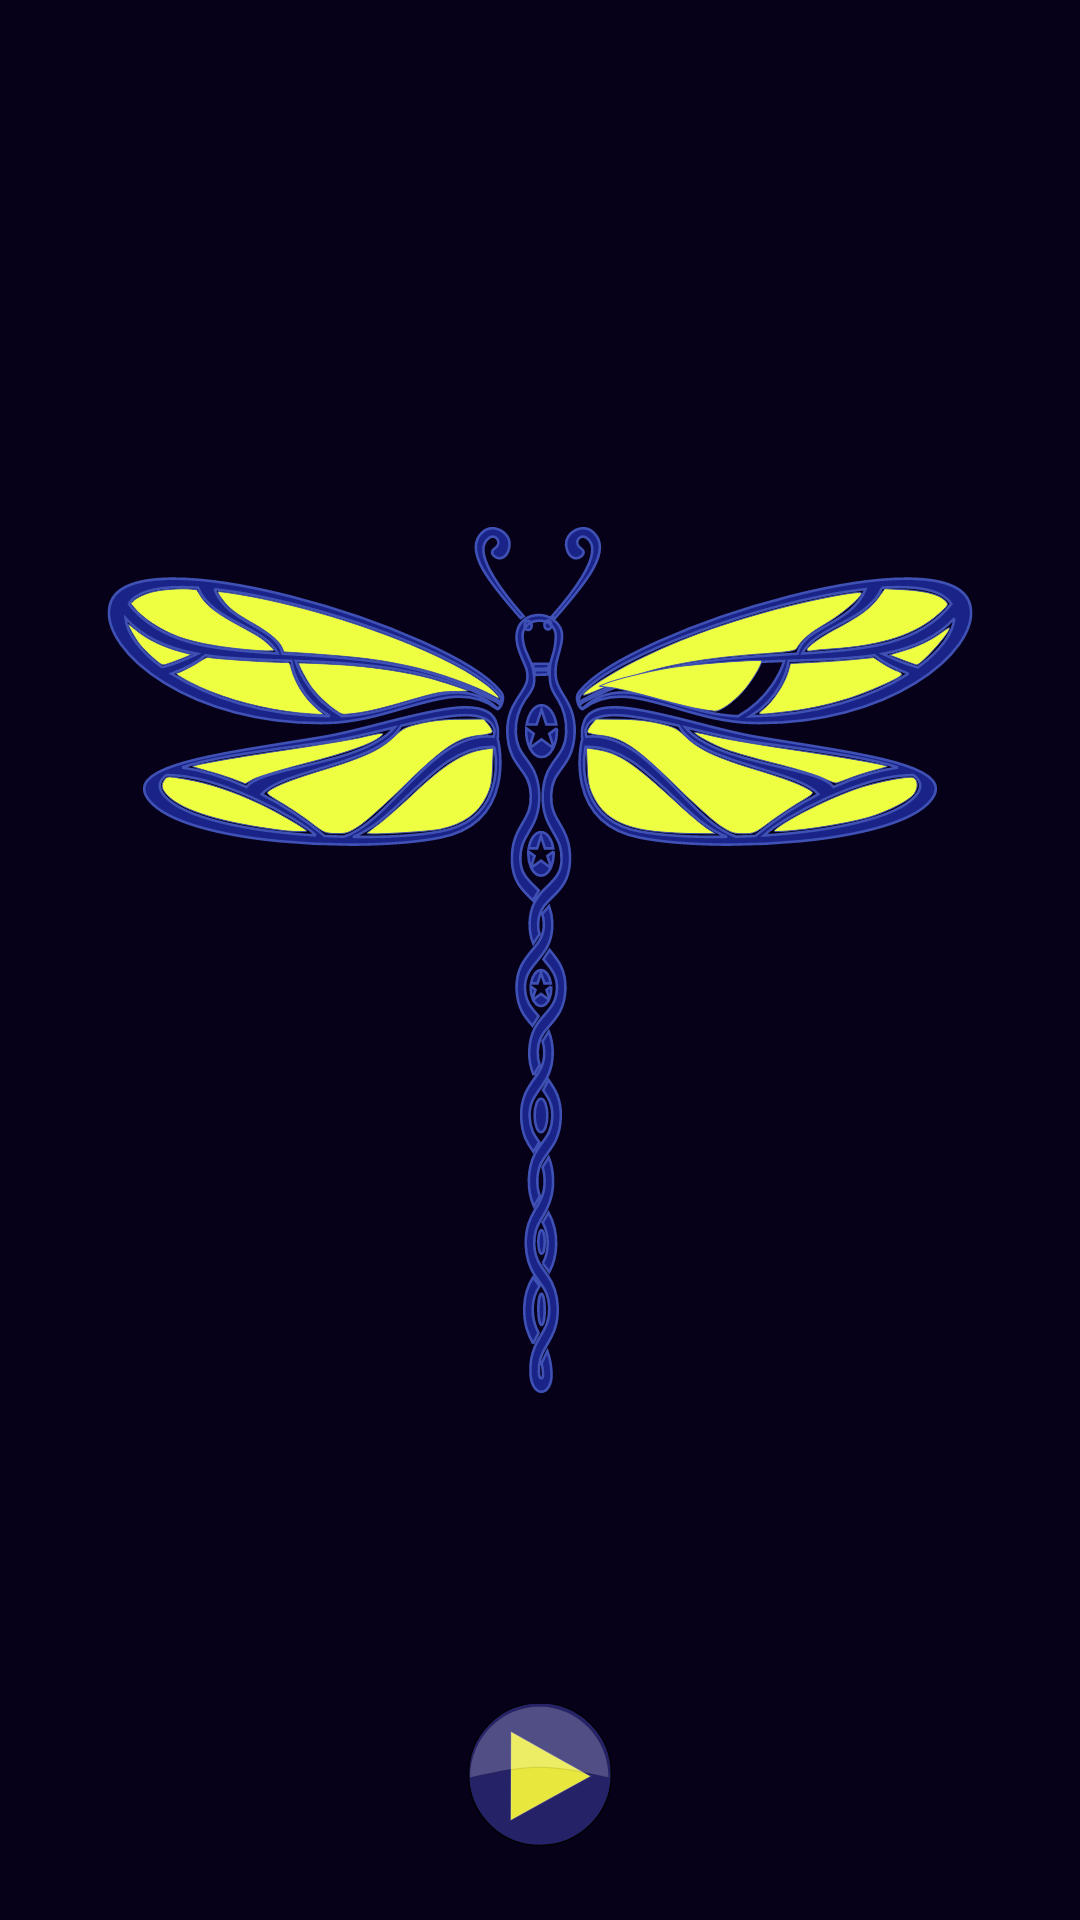

Named icons in this screenshot (1080px x 1920px) and their centers, point (x, y):
play/pause button: point (539, 1775)
